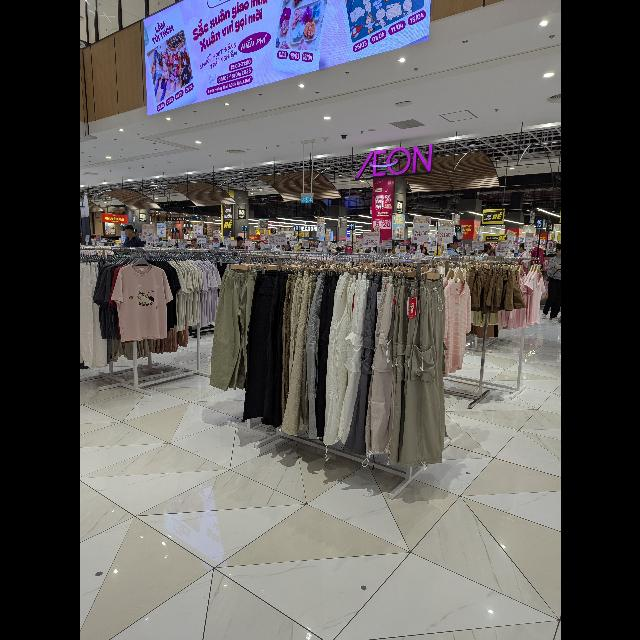exit: (300, 196, 312, 204)
